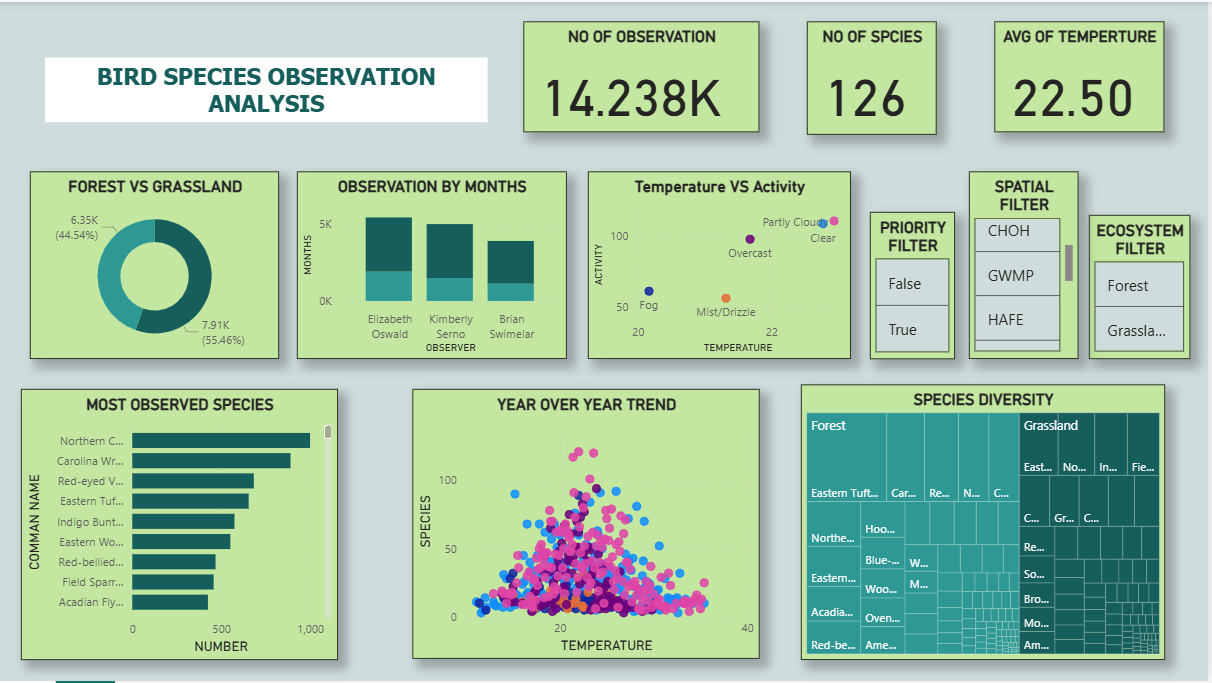

The dashboard page shown, as its layout file describes it:
{"tool":"powerbi","page":{"name":"Page 1","canvas":[1280,720],"ordinal":0},"visuals":[{"type":"scatterChart","title":"Temperature VS Activity","fields":{"X":["Avg(bird_observations_clean.Temperature)"],"Y":["Count(bird_observations_clean.Common_Name)"],"Series":["bird_observations_clean.Sky_Clean"]},"box":[622.9,180,278.6,198.6],"z":0},{"type":"clusteredBarChart","title":"MOST OBSERVED SPECIES ","fields":{"Category":["bird_observations_clean.Common_Name"],"Y":["CountNonNull(bird_observations_clean.Common_Name)"]},"box":[22.9,410,335.7,287.1],"z":1},{"type":"donutChart","title":"FOREST VS GRASSLAND ","fields":{"Category":["bird_observations_clean.Location_Type"],"Y":["CountNonNull(bird_observations_clean.Common_Name)"]},"box":[31.4,180,264.3,198.6],"z":2},{"type":"scatterChart","title":"YEAR OVER YEAR TREND","fields":{"Series":["bird_observations_clean.Sky_Clean"],"Y":["CountNonNull(bird_observations_clean.Common_Name)"],"X":["bird_observations_clean.Temperature"]},"box":[438,410,368,286],"z":3},{"type":"cardVisual","title":"NO OF OBSERVATION","fields":{"Data":["CountNonNull(bird_observations_clean.AcceptedTSN)"]},"box":[555,20,250,117.5],"z":4},{"type":"cardVisual","title":"NO OF SPCIES","fields":{"Data":["Count(bird_observations_clean.Common_Name)"]},"box":[855,20,137.5,120],"z":5},{"type":"cardVisual","title":"AVG OF TEMPERTURE ","fields":{"Data":["Avg(bird_observations_clean.Temperature)"]},"box":[1055,20,180,117.5],"z":6},{"type":"columnChart","title":"OBSERVATION BY MONTHS ","fields":{"Category":["bird_observations_clean.Observer"],"Y":["CountNonNull(bird_observations_clean.Common_Name)"],"Series":["bird_observations_clean.Season"]},"box":[314.3,180,285.7,198.6],"z":7},{"type":"treemap","title":"SPECIES DIVERSITY","fields":{"Group":["bird_observations_clean.Location_Type"],"Details":["bird_observations_clean.Common_Name"],"Values":["Sum(bird_observations_clean.AcceptedTSN)"]},"box":[850,406,386,292],"z":8},{"type":"advancedSlicerVisual","title":"ECOSYSTEM FILTER","fields":{"Values":["bird_observations_clean.Location_Type"]},"box":[1155,226.2,107.5,152.5],"z":9},{"type":"advancedSlicerVisual","title":"SPATIAL FILTER","fields":{"Values":["bird_observations_clean.Admin_Unit_Code"]},"box":[1027.5,180,116.2,198.8],"z":10},{"type":"advancedSlicerVisual","title":"PRIORITY FILTER","fields":{"Values":["bird_observations_clean.PIF_Watchlist_Status"]},"box":[922,222,90,156],"z":11},{"type":"textbox","box":[47.7,58.9,469.2,68.4],"z":12}]}

Visuals, with their boxes in screenshot pixels (x1, y1, x2, y2), scaled from the page's 1280x720 canvas onto the 1212x683 screenshot:
"Temperature VS Activity" scatterChart: rect(590, 171, 854, 359)
"MOST OBSERVED SPECIES " clusteredBarChart: rect(22, 389, 340, 661)
"FOREST VS GRASSLAND " donutChart: rect(30, 171, 280, 359)
"YEAR OVER YEAR TREND" scatterChart: rect(415, 389, 763, 660)
"NO OF OBSERVATION" cardVisual: rect(526, 19, 762, 130)
"NO OF SPCIES" cardVisual: rect(810, 19, 940, 133)
"AVG OF TEMPERTURE " cardVisual: rect(999, 19, 1169, 130)
"OBSERVATION BY MONTHS " columnChart: rect(298, 171, 568, 359)
"SPECIES DIVERSITY" treemap: rect(805, 385, 1170, 662)
"ECOSYSTEM FILTER" advancedSlicerVisual: rect(1094, 215, 1195, 359)
"SPATIAL FILTER" advancedSlicerVisual: rect(973, 171, 1083, 359)
"PRIORITY FILTER" advancedSlicerVisual: rect(873, 211, 958, 359)
textbox: rect(45, 56, 489, 121)
